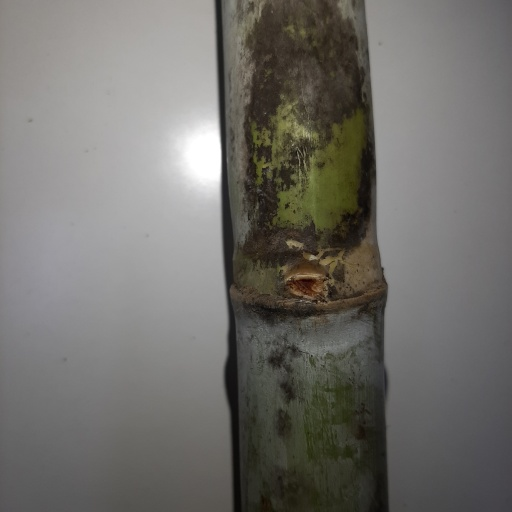Damage_Bud: (284, 262, 329, 301)
